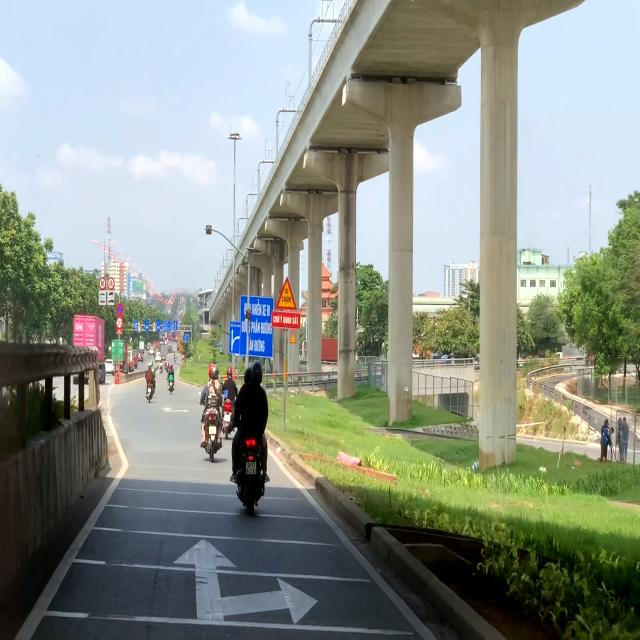P.127: (99, 277, 106, 290), (108, 276, 114, 290)
P.130: (117, 302, 123, 316)
W.245a: (276, 276, 298, 312)
